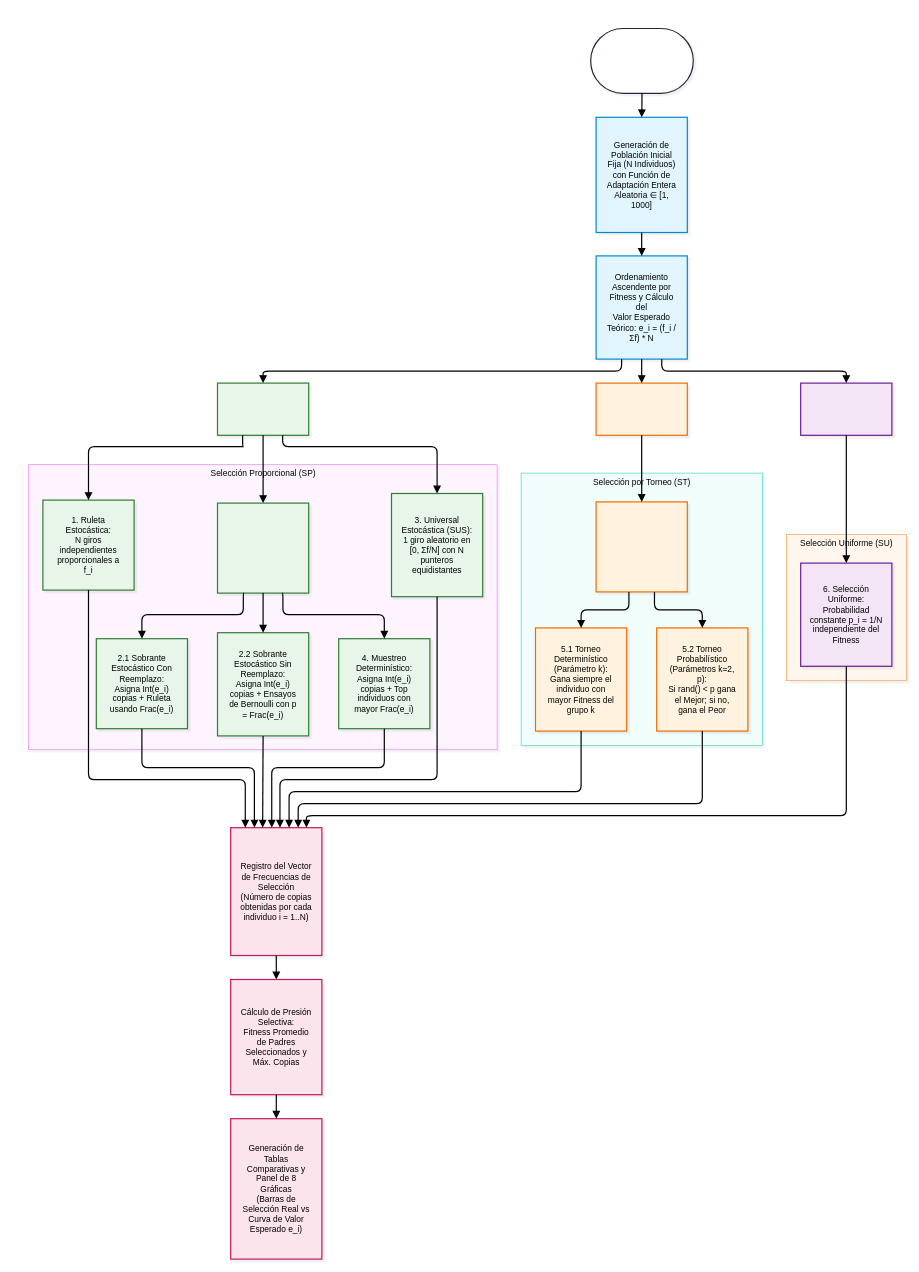
Image size: 919x1272. Some labels were removed from this diagram. The centre of each missing label's shape, as x and y in pixels:
"Cálculo de Parte Entera Int(e_i) y Parte Fraccionaria Frac(e_i) = e_i - Int(e_i)" goes at [264,549].
"Familia 1: Selección Proporcional (SP)" goes at [264,410].
"Familia 2: Selección por Torneo (ST)" goes at [642,410].
"Familia 3: Selección Uniforme (SU)" goes at [847,410].
"Inicio Tarea 3: Evaluación de Técnicas de Selección" goes at [643,62].
"Muestreo Aleatorio de k Competidores (Repetido N veces para elegir N padres)" goes at [642,548].
